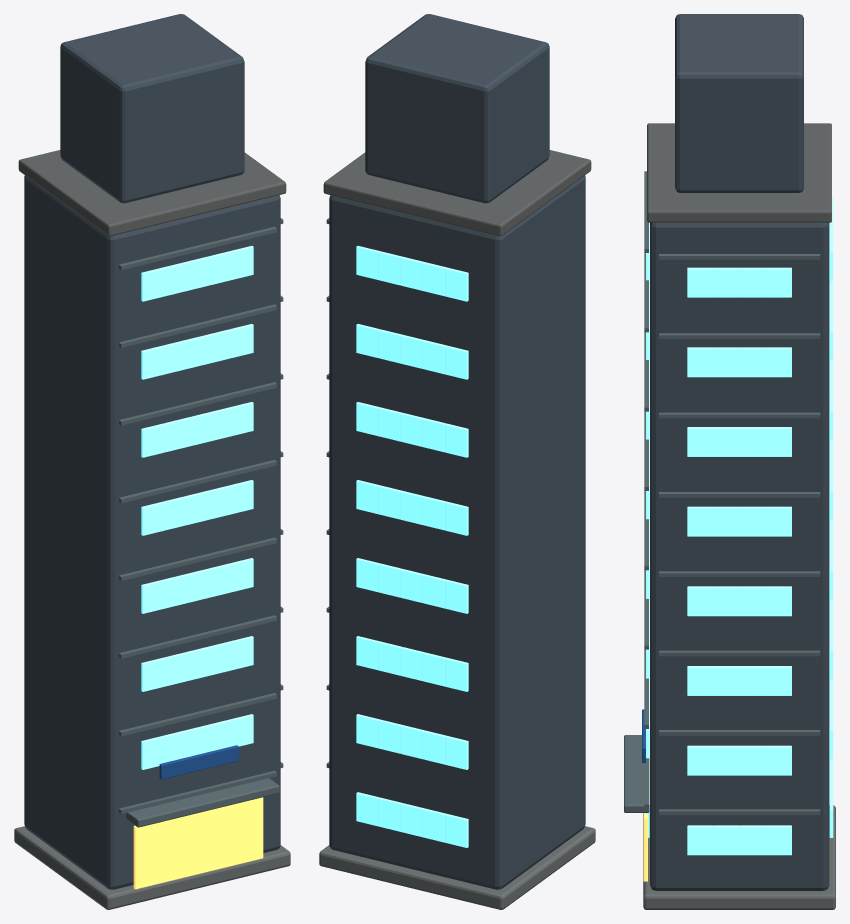
File: commercial_stepped_tower.glb
3 views of the same model, side by side, from view 1: azimuth 30°, elevation 25°; view 2: azimuth 150°, elevation 25°; view 3: azimuth 270°, elevation 25° (orthographic). The views are drawn at different scales.
Visible parts, largest first — view 1: main_massing, tower_setback, roof_slab, storefront_glazing, foundation, storefront_awning, shop_sign, facade_band_front.005, facade_band_front.006, facade_band_front, facade_band_front.003, facade_band_front.004 (+38 smaller); view 2: main_massing, tower_setback, roof_slab, foundation, rear_window.035, rear_window.010, rear_window.015, rear_window.030, rear_window.005, rear_window, rear_window.020, rear_window.025 (+32 smaller); view 3: main_massing, tower_setback, roof_slab, foundation, storefront_awning, facade_band_side.002, facade_band_side.005, facade_band_side, facade_band_side.001, facade_band_side.003, facade_band_side.004, facade_band_side.006 (+33 smaller).
Boxes of the visible parts, x1,y1,x2,y2 form: main_massing: (24,175,280,889); tower_setback: (60,14,244,203); roof_slab: (18,150,286,236); storefront_glazing: (133,797,263,889); foundation: (14,826,290,909); storefront_awning: (126,778,279,827); shop_sign: (159,745,238,779); facade_band_front.005: (119,382,276,425); facade_band_front.006: (119,304,276,347); facade_band_front: (119,770,276,813); facade_band_front.003: (119,537,276,580); facade_band_front.004: (119,460,276,503); main_massing: (329,175,585,889); tower_setback: (365,14,549,203); roof_slab: (323,150,591,236); foundation: (319,826,595,909); rear_window.035: (445,267,468,301); rear_window.010: (445,657,468,691); rear_window.015: (445,579,468,613); rear_window.030: (445,345,468,379); rear_window.005: (445,735,468,769); rear_window: (445,813,468,847); rear_window.020: (445,501,468,535); rear_window.025: (445,423,468,457); main_massing: (650,222,829,890); tower_setback: (675,14,803,192); roof_slab: (647,123,831,222); foundation: (643,805,835,909); storefront_awning: (624,735,649,812); facade_band_side.002: (659,650,820,656); facade_band_side.005: (659,412,820,418); facade_band_side: (659,809,820,814); facade_band_side.001: (659,730,820,735); facade_band_side.003: (659,571,820,576); facade_band_side.004: (659,492,820,497); facade_band_side.006: (659,333,820,338).
Size of the model in its own units: 1.3 by 5.42 by 1.27.
